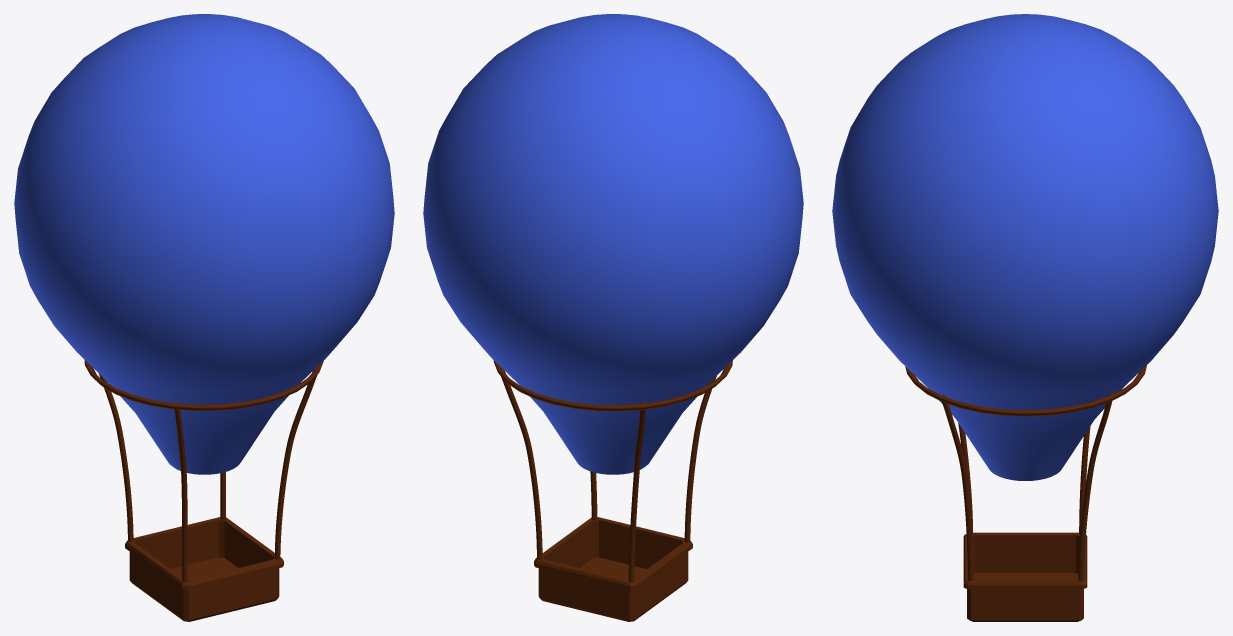
File: PFE_AirBalloon.fbx
3 renders of one model, left to right at view 1: azimuth 30°, elevation 25°; view 2: azimuth 150°, elevation 25°; view 3: azimuth 270°, elevation 25°, orthographic.
Visible parts, largest first — view 1: Balloon_OG, Nacelle, String_Circle, String_04, String_03, String_01; view 2: Balloon_OG, Nacelle, String_Circle, String_02, String_01, String_03; view 3: Balloon_OG, Nacelle, String_Circle, String_04, String_02, String_01.
Part boxes in pixels (bbox=[...]): Balloon_OG: bbox=[14, 14, 394, 474]; Nacelle: bbox=[125, 517, 283, 621]; String_Circle: bbox=[84, 360, 323, 410]; String_04: bbox=[274, 367, 317, 559]; String_03: bbox=[174, 402, 187, 582]; String_01: bbox=[99, 374, 133, 541]; Balloon_OG: bbox=[423, 14, 803, 474]; Nacelle: bbox=[534, 517, 692, 621]; String_Circle: bbox=[493, 360, 732, 411]; String_02: bbox=[500, 368, 542, 559]; String_01: bbox=[628, 402, 645, 582]; String_03: bbox=[684, 376, 716, 542]; Balloon_OG: bbox=[832, 14, 1218, 480]; Nacelle: bbox=[963, 532, 1087, 621]; String_Circle: bbox=[905, 365, 1146, 416]; String_04: bbox=[942, 394, 973, 581]; String_02: bbox=[1078, 394, 1112, 581]; String_01: bbox=[1079, 426, 1090, 534].
Size of the model in its own units: 535 by 867 by 535.
